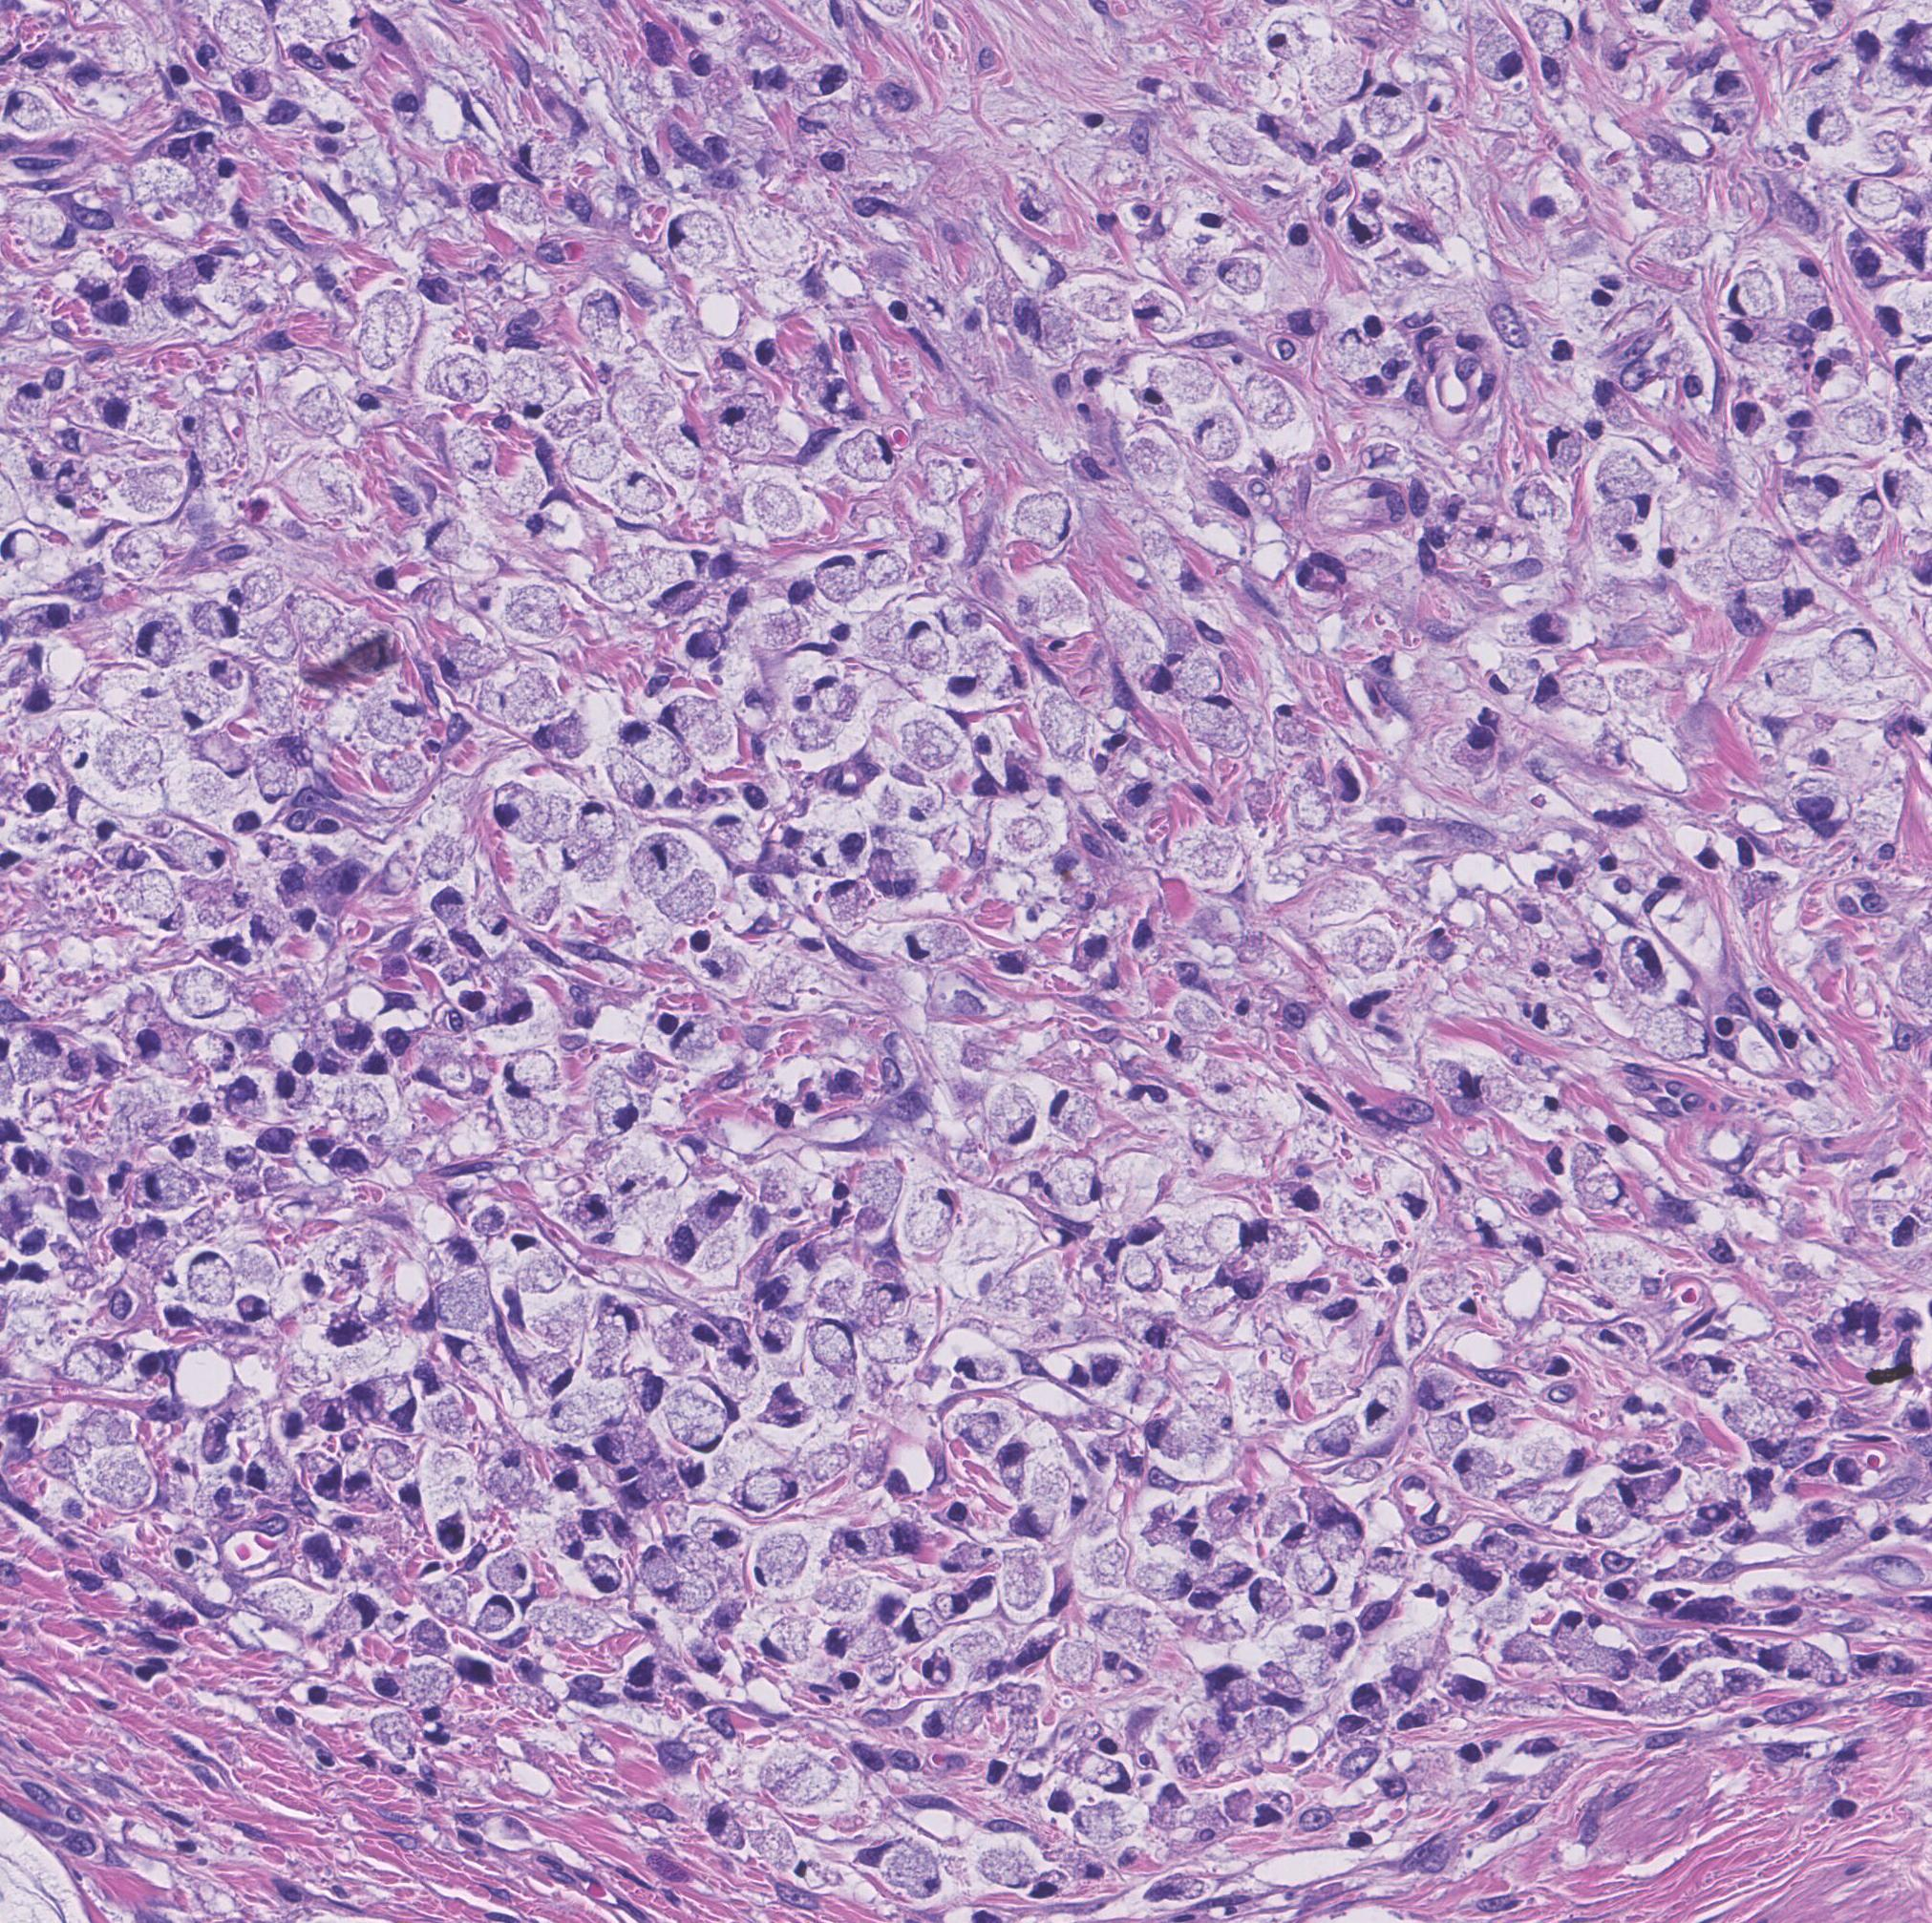ring_cell_cancer: (86, 666, 185, 733), (1722, 1388, 1798, 1463), (358, 289, 424, 366), (657, 699, 736, 761), (615, 717, 694, 777), (666, 1379, 727, 1455), (502, 356, 572, 421), (507, 1217, 565, 1294), (1138, 1405, 1212, 1465), (1090, 1597, 1166, 1655), (1742, 1351, 1819, 1407), (1564, 1143, 1626, 1213), (706, 396, 775, 458), (118, 877, 188, 937), (666, 206, 729, 271), (176, 398, 234, 468), (414, 1483, 470, 1555), (5, 199, 79, 254), (1377, 1152, 1432, 1226), (361, 689, 428, 748), (1319, 1291, 1375, 1361), (1643, 1007, 1710, 1065), (1726, 527, 1793, 585), (1180, 1370, 1236, 1439), (599, 745, 659, 808), (498, 673, 567, 727), (900, 1180, 955, 1249), (866, 777, 948, 822), (630, 833, 694, 891), (1236, 1363, 1294, 1426), (7, 754, 63, 819), (493, 778, 549, 844), (586, 1071, 641, 1138), (588, 551, 657, 604), (1823, 623, 1881, 685), (1338, 1206, 1402, 1263), (264, 1266, 329, 1321), (1617, 1465, 1685, 1516), (1189, 694, 1249, 752), (1013, 493, 1073, 551), (446, 431, 502, 493), (171, 676, 232, 733), (1027, 301, 1083, 363), (944, 1631, 1007, 1685), (63, 1337, 132, 1386), (865, 1312, 926, 1367), (808, 807, 870, 861), (1576, 1477, 1631, 1539), (877, 1849, 940, 1902), (1782, 252, 1833, 317), (1726, 321, 1791, 372), (1437, 1650, 1497, 1705), (1784, 465, 1839, 525), (1523, 1430, 1592, 1477), (1617, 932, 1670, 993), (609, 1145, 673, 1196), (217, 269, 282, 319), (578, 291, 627, 356), (1597, 491, 1655, 546), (1171, 183, 1226, 241), (173, 969, 232, 1021), (402, 1661, 454, 1720), (986, 1087, 1039, 1146), (1597, 447, 1657, 500), (97, 375, 148, 437), (1196, 1668, 1265, 1713), (597, 1300, 641, 1370), (130, 615, 187, 669), (1280, 1162, 1337, 1217), (1189, 409, 1245, 463), (197, 872, 255, 925), (423, 495, 468, 562), (190, 731, 250, 782), (838, 433, 898, 484), (1847, 173, 1907, 224), (902, 925, 974, 967), (134, 1169, 203, 1213), (58, 254, 122, 301), (166, 831, 229, 879), (1409, 1365, 1474, 1411), (187, 1252, 240, 1308), (639, 544, 710, 586), (291, 387, 347, 440), (512, 581, 565, 637), (699, 340, 750, 398), (1199, 1212, 1257, 1263), (1044, 1157, 1102, 1208), (1360, 88, 1418, 139), (534, 708, 592, 759), (1453, 1444, 1511, 1495), (169, 1122, 229, 1171), (808, 1317, 856, 1379), (347, 386, 410, 431), (254, 743, 299, 807), (1370, 1374, 1416, 1437), (1465, 1398, 1529, 1444), (375, 1379, 428, 1433), (756, 1534, 810, 1587), (372, 1712, 423, 1768), (1051, 1092, 1108, 1143), (437, 643, 511, 682), (1074, 1750, 1136, 1796), (301, 1106, 354, 1159), (972, 1847, 1036, 1891), (504, 1043, 558, 1094), (759, 1617, 815, 1666), (1067, 1801, 1132, 1844), (741, 1467, 803, 1511), (1365, 1537, 1427, 1581), (828, 1620, 895, 1661), (505, 176, 558, 227), (16, 431, 69, 483), (562, 831, 613, 884), (435, 356, 490, 405), (9, 1032, 63, 1081), (1731, 266, 1781, 321), (613, 470, 669, 518), (470, 877, 512, 940), (1488, 646, 1545, 694), (659, 421, 704, 479), (322, 1595, 380, 1641), (1307, 1414, 1365, 1460), (1319, 1506, 1365, 1564), (666, 1021, 734, 1060), (1009, 1493, 1069, 1537), (1354, 310, 1405, 361), (923, 1699, 984, 1742), (977, 645, 1027, 697), (190, 1472, 243, 1521), (225, 572, 287, 615), (815, 549, 863, 604), (942, 666, 990, 720), (1138, 1557, 1194, 1603), (905, 615, 951, 671), (1328, 324, 1374, 380), (819, 879, 877, 923), (1053, 1632, 1097, 1691), (109, 534, 169, 576), (810, 674, 861, 724), (433, 1446, 483, 1497), (518, 130, 571, 178), (1543, 419, 1589, 474), (1759, 657, 1818, 699), (1478, 1064, 1527, 1113), (856, 542, 907, 590), (183, 599, 241, 639), (1147, 1780, 1194, 1830), (1449, 722, 1499, 770), (1293, 1548, 1338, 1599), (1132, 291, 1184, 336), (1180, 648, 1226, 699), (386, 740, 428, 794), (861, 1280, 911, 1326), (1553, 1610, 1592, 1668), (95, 285, 146, 329), (1685, 1354, 1737, 1398), (229, 1072, 269, 1127), (1206, 1544, 1254, 1590), (4, 92, 55, 134), (1851, 486, 1888, 544), (9, 602, 72, 636), (650, 579, 713, 613), (428, 884, 472, 932), (535, 1351, 579, 1398), (1881, 468, 1928, 512), (167, 255, 229, 289), (243, 1456, 291, 1499), (935, 597, 983, 639), (706, 1803, 747, 1853), (951, 1351, 1007, 1386), (1770, 1388, 1828, 1421), (483, 1551, 527, 1595), (306, 1455, 347, 1502), (687, 1516, 741, 1551), (1803, 107, 1853, 146), (639, 1546, 682, 1590), (1217, 254, 1261, 296), (1249, 1576, 1294, 1617), (1275, 704, 1316, 750), (1430, 1057, 1472, 1099), (11, 380, 55, 421), (800, 831, 845, 870), (838, 1527, 886, 1564), (666, 1576, 715, 1611), (250, 902, 291, 944), (581, 798, 618, 844), (201, 655, 247, 692), (1125, 1245, 1161, 1293), (476, 1594, 516, 1634), (754, 1314, 796, 1352), (902, 1604, 939, 1645), (1346, 206, 1384, 243), (583, 1560, 625, 1594), (1606, 530, 1643, 567), (1162, 1521, 1201, 1557), (1481, 1532, 1520, 1560)
